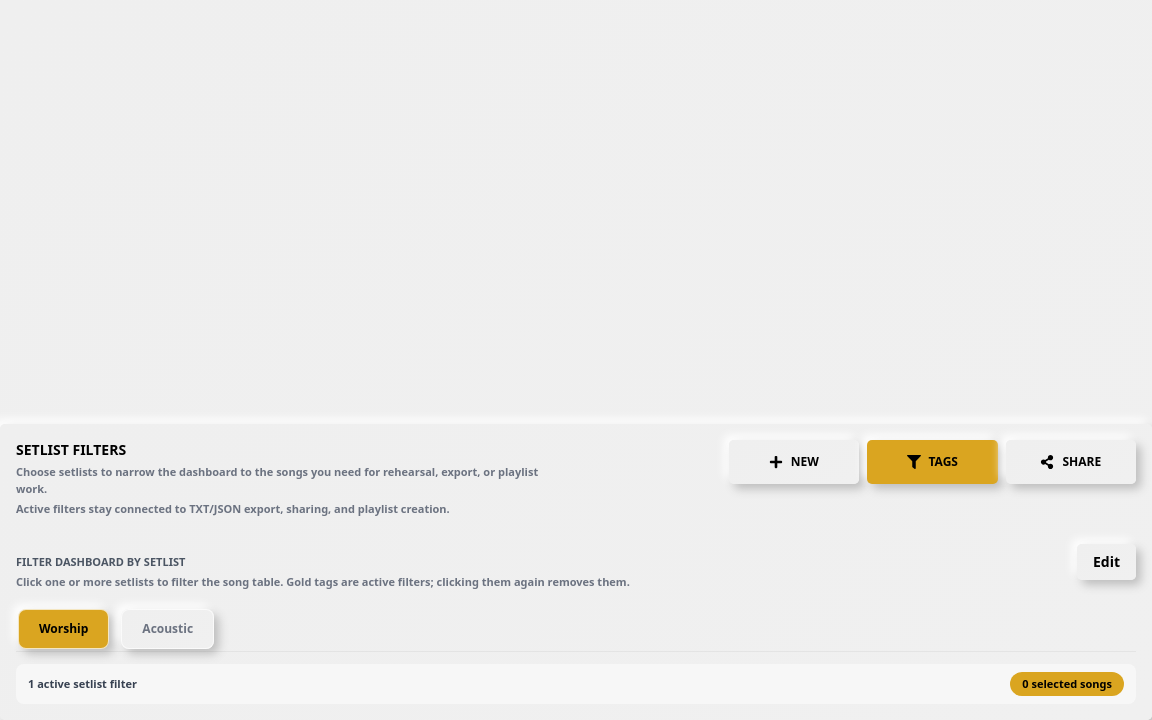
Test case: Tags › shares the selected setlists with the typed email
Click the button "Share": [1071, 462] box [1006,440,1136,484]
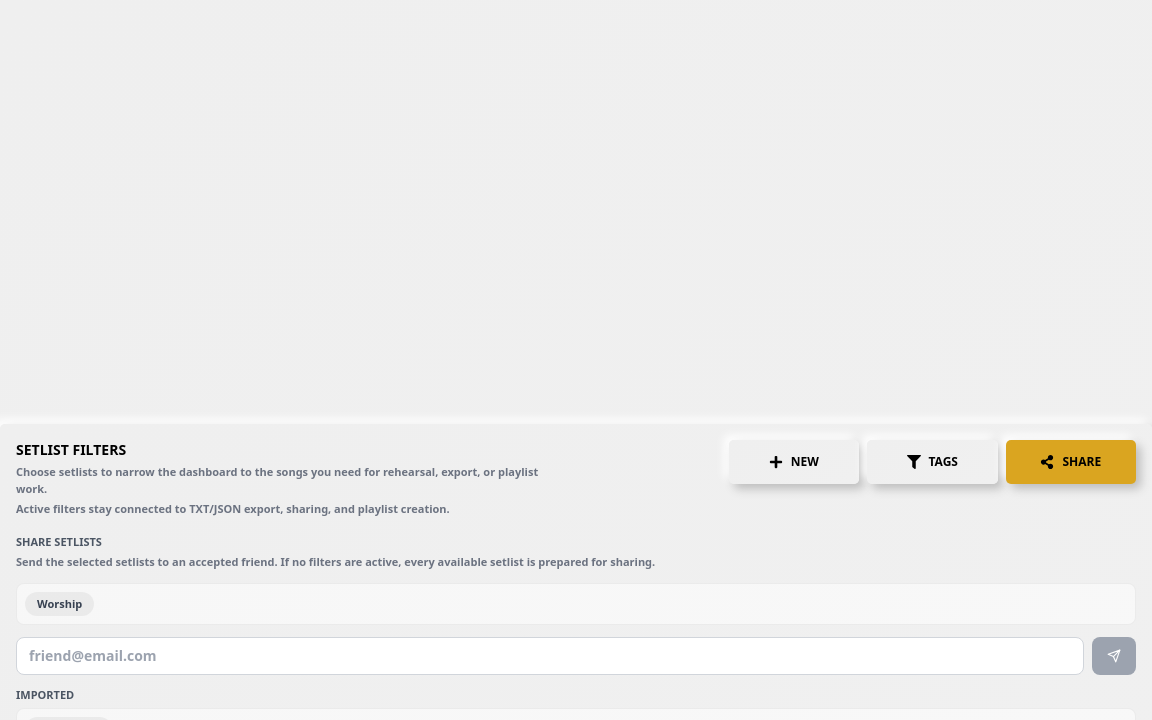
In the field with placeholder "friend@email.com": [550, 656] box [16,637,1084,675], type "friend@example.com"
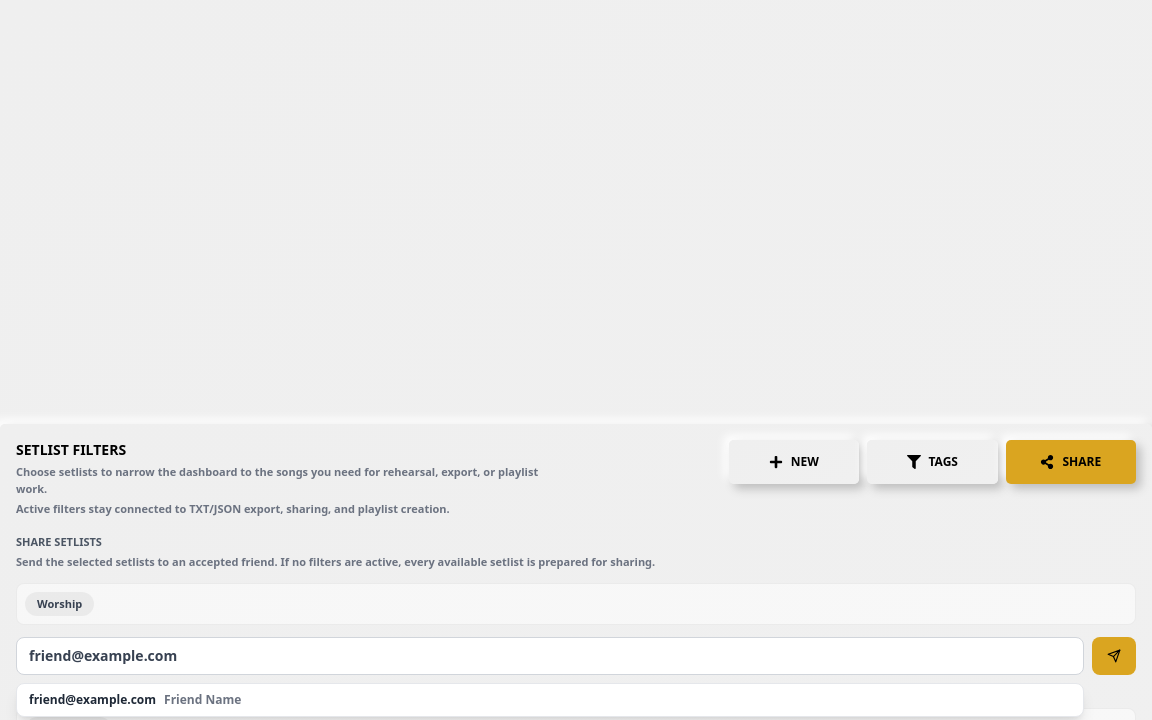
Click the button named "Send setlist": [1114, 656] box [1092,637,1136,675]
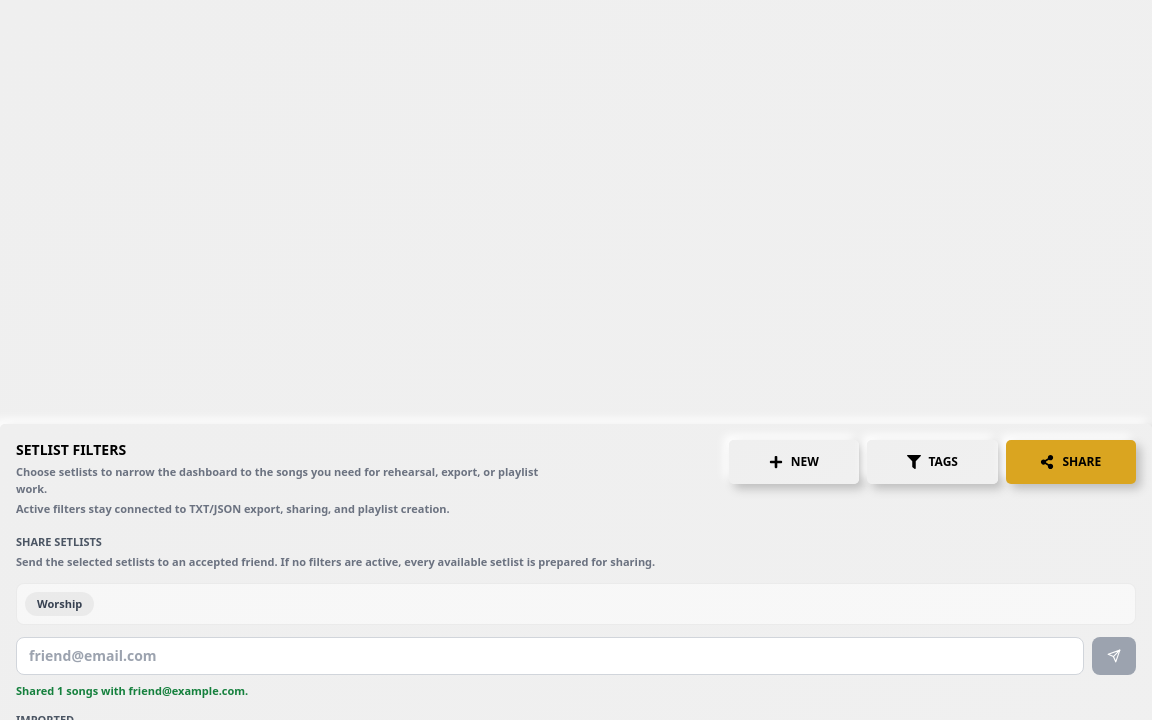
Now the text "Shared 1 songs with friend@example.com." is shown, box [16,683,248,698]
